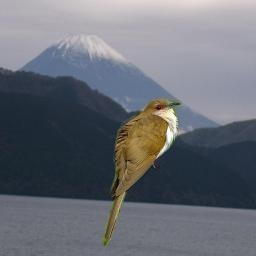Cuckoo: (101, 98, 182, 247)
